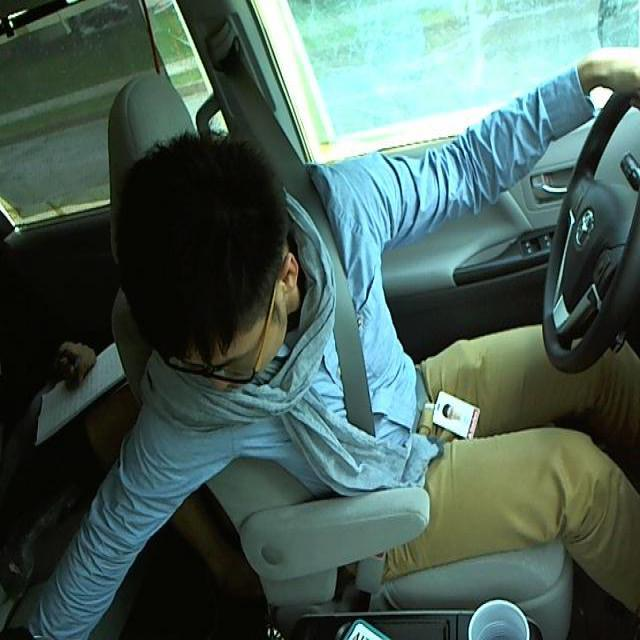seatbelt: (306, 238, 393, 438)
